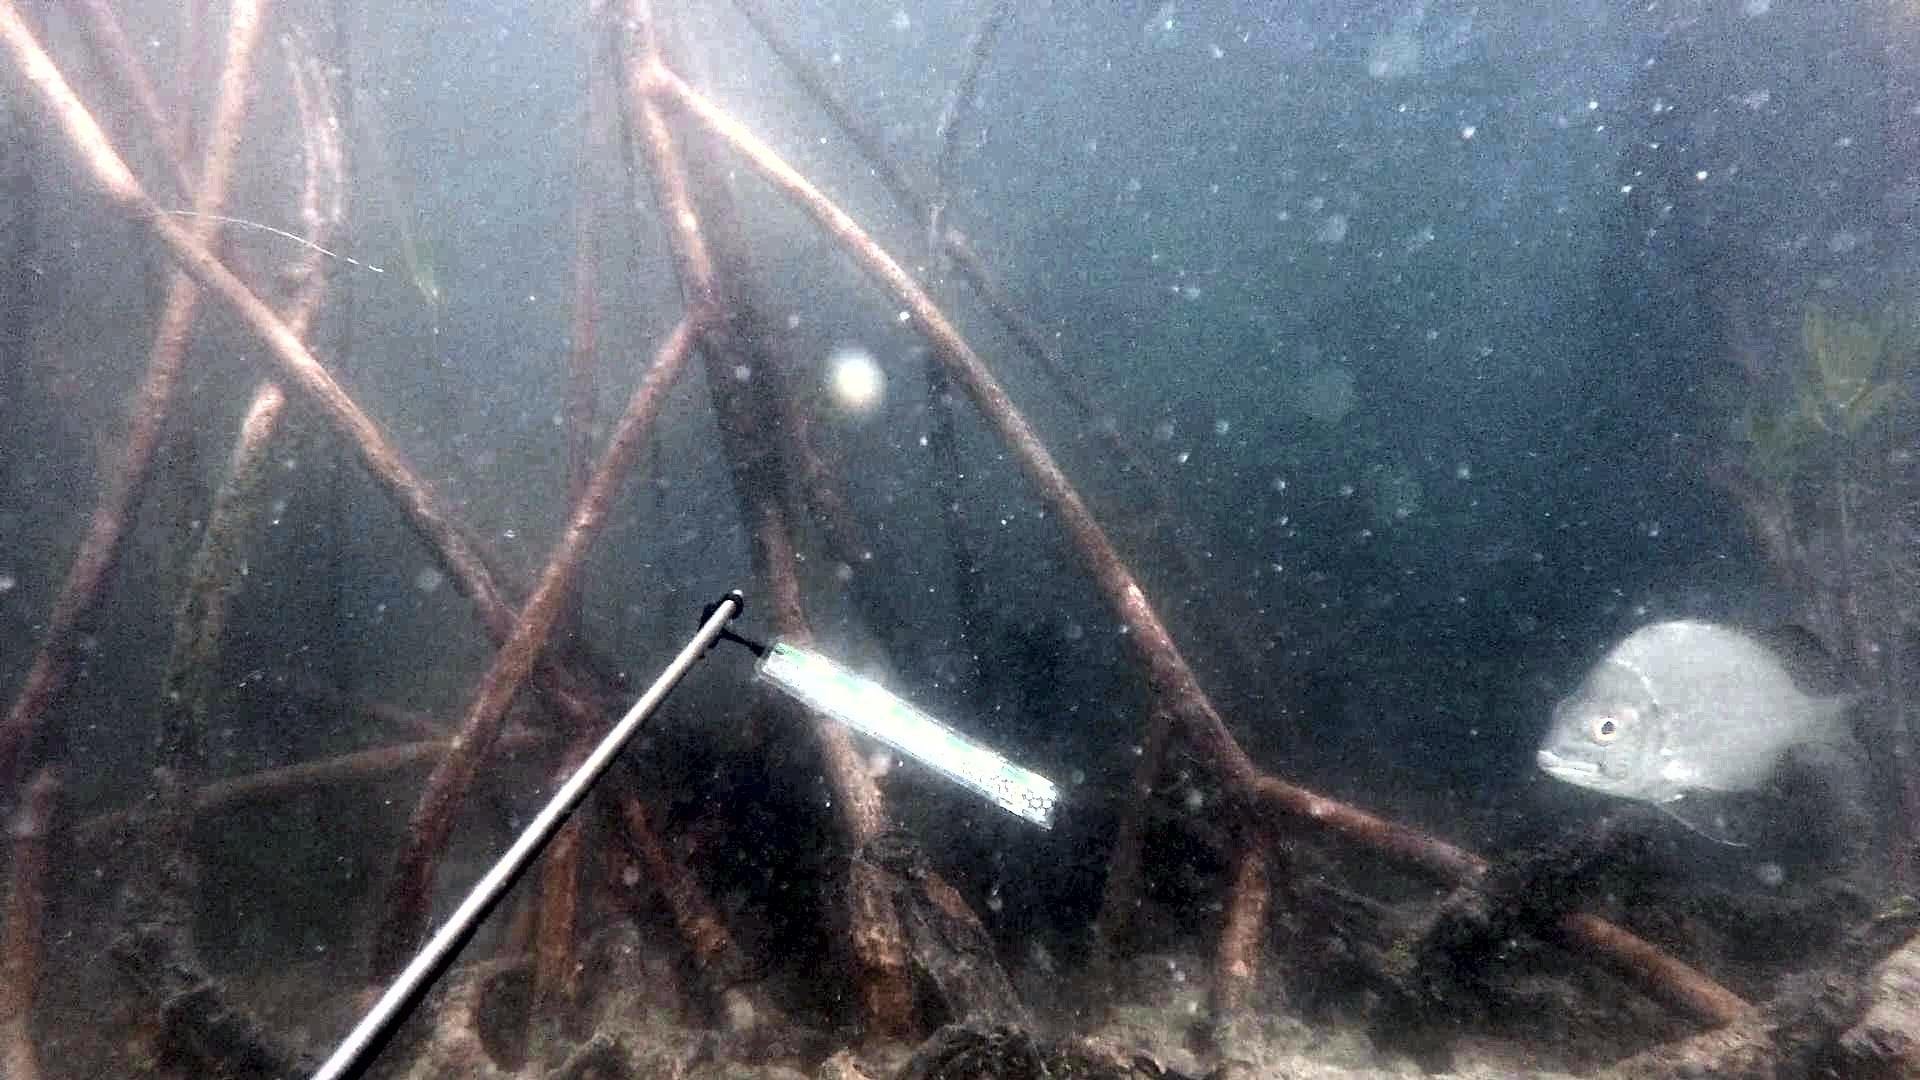acanthopagrus palmaris: (1521, 609, 1920, 857)
